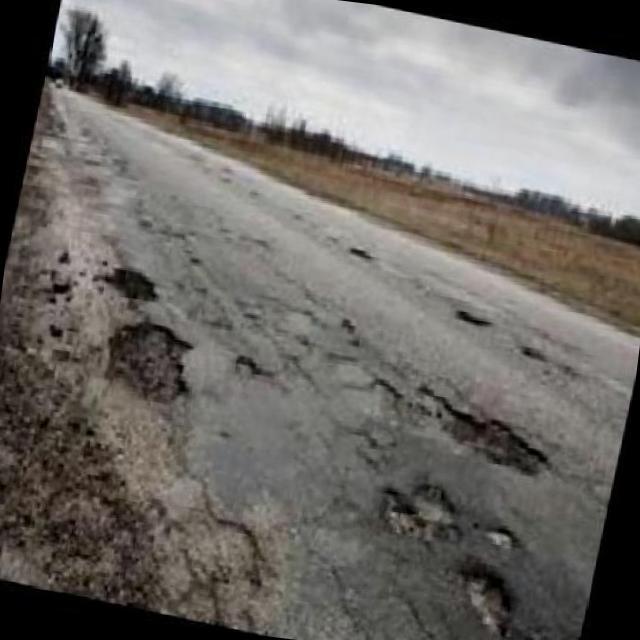Pothole: (427, 394, 551, 477), (105, 318, 194, 412), (384, 484, 456, 540), (462, 562, 510, 637), (102, 267, 158, 311)
